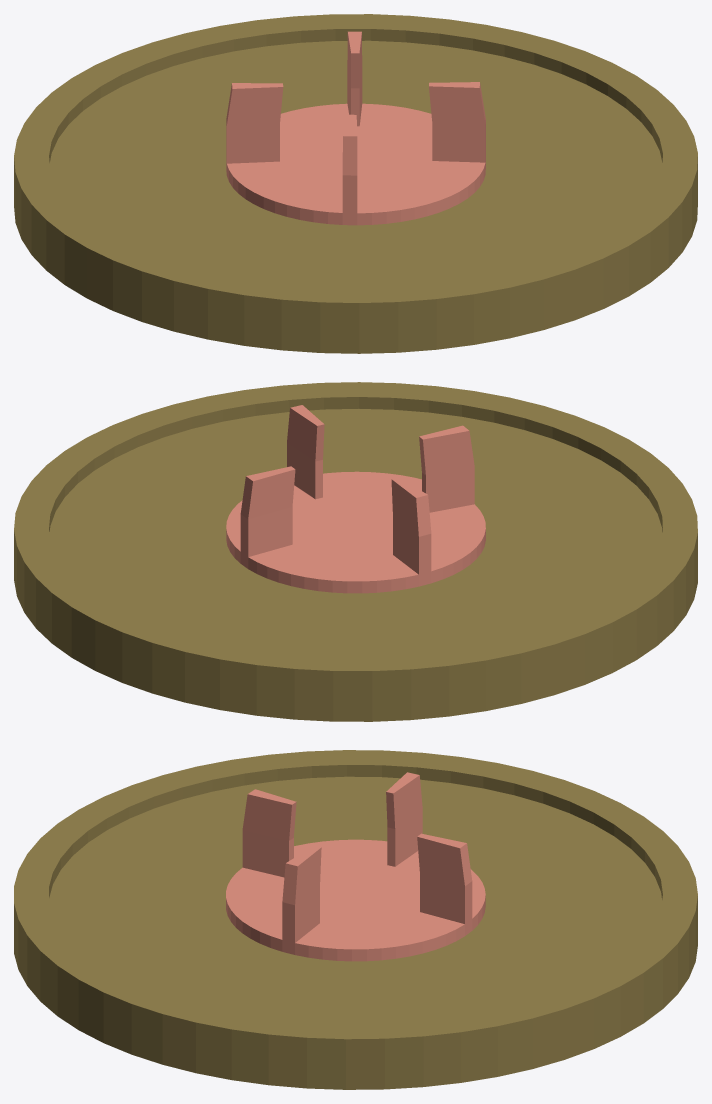
Rendered from PedestalHolder.fbx.
3 renders of one model, top to bottom at view 1: azimuth 30°, elevation 25°; view 2: azimuth 150°, elevation 25°; view 3: azimuth 270°, elevation 25°, orthographic.
Visible parts, largest first — view 1: Cylinder; view 2: Cylinder; view 3: Cylinder.
Boxes of the visible parts, bbox=[...] form: Cylinder: bbox=[14, 14, 697, 353]; Cylinder: bbox=[14, 382, 697, 721]; Cylinder: bbox=[14, 750, 697, 1089].
Size of the model in its own units: 200 by 40.4 by 200.
